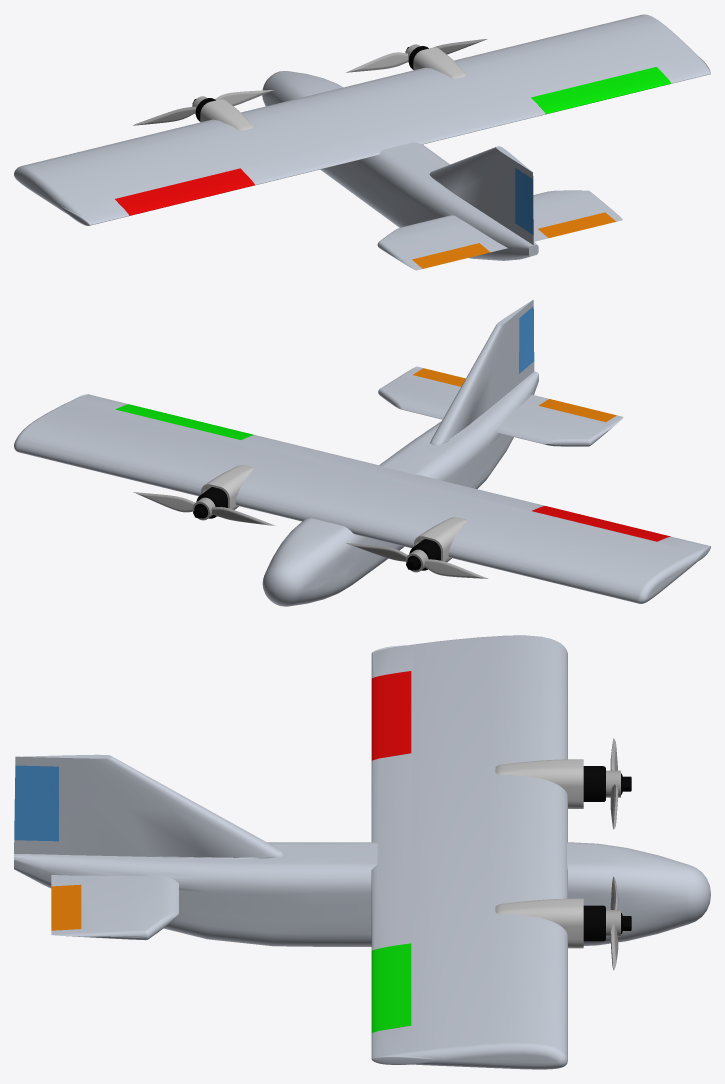
File: model_twin_plane.gltf
The picture shows the model from 3 angles, top to bottom: view 1: azimuth 30°, elevation 25°; view 2: azimuth 150°, elevation 25°; view 3: azimuth 270°, elevation 25°; orthographic projection. The views are drawn at different scales.
Size of the model in its own units: 10.55 by 2.12 by 7.5.
